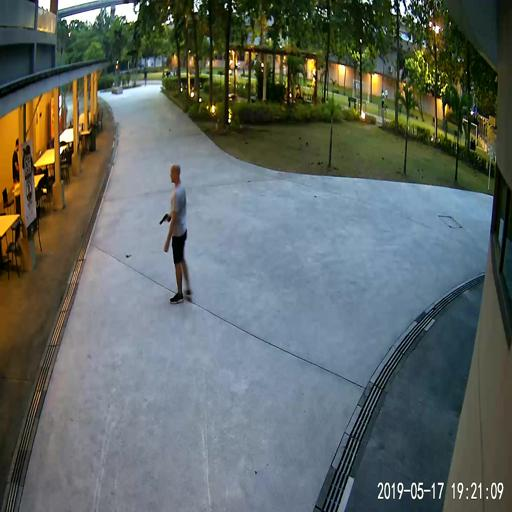pistol: (159, 212, 170, 225)
